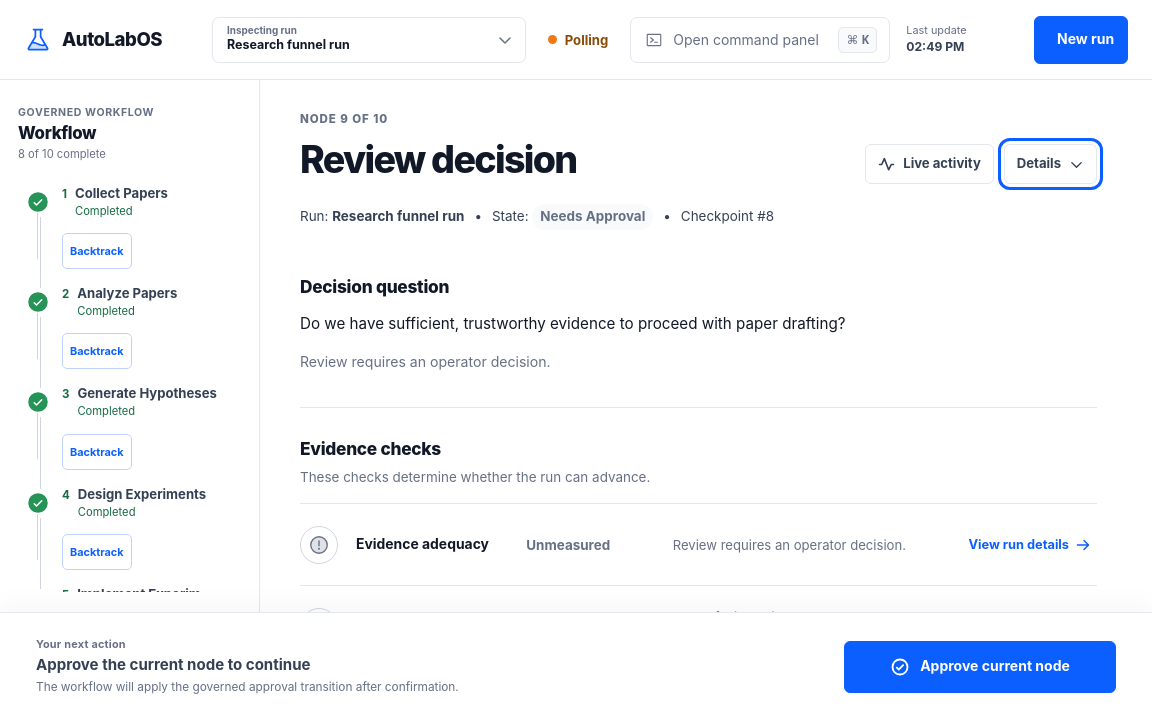
Test: App › does not authorize an untrusted funnel even when probe_allowed is stale true
Click the button "Details" at (1050, 164), box [1004, 144, 1097, 184]
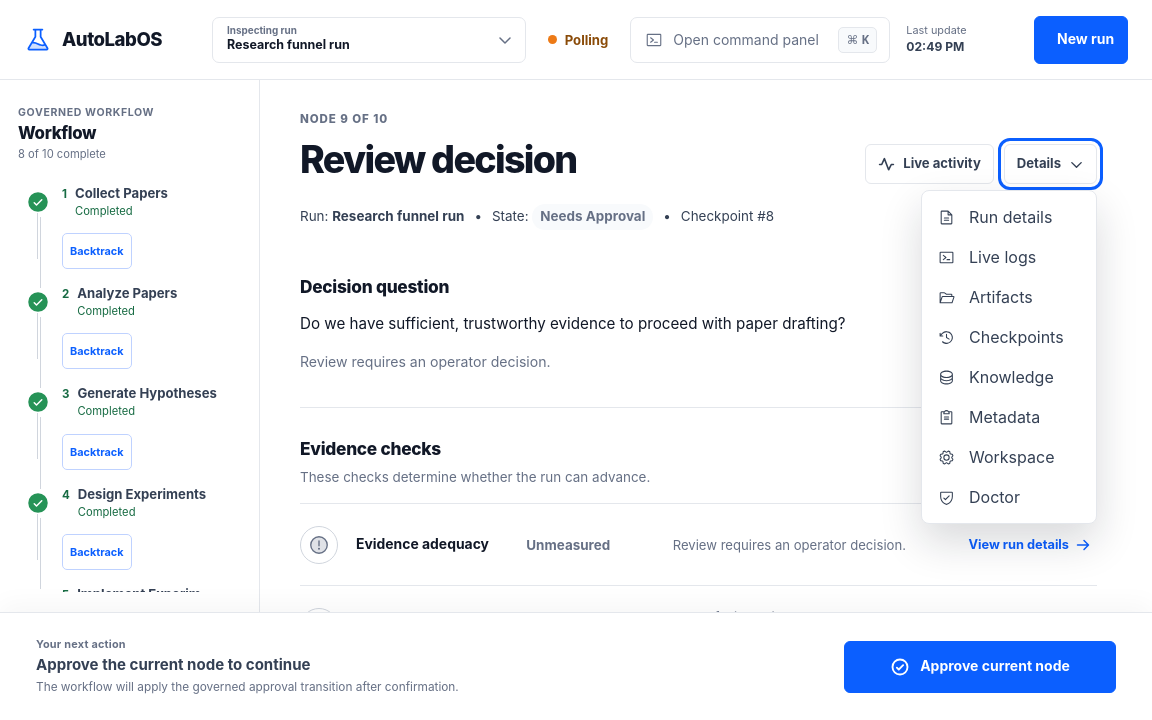
Click the button "Run details" at (1009, 217), box [928, 197, 1090, 237]
(page scrolled)
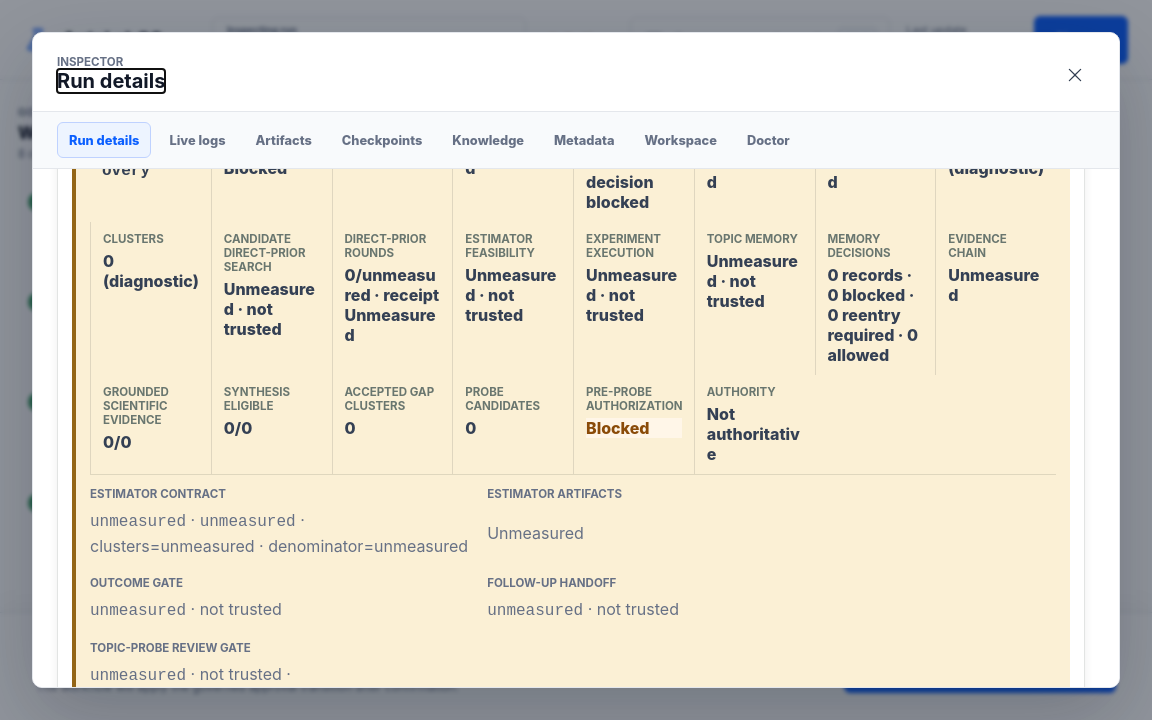
Check: the text "Blocked" is shown, box [586, 418, 682, 438]
